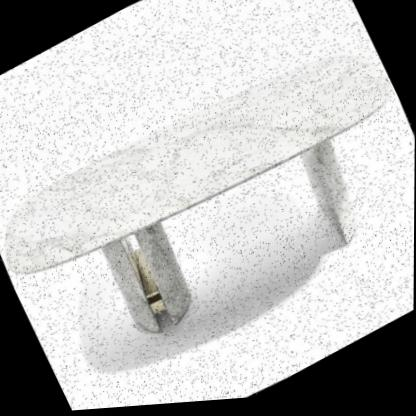Table: (0, 6, 416, 416)
